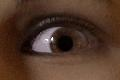eye: (50, 29, 81, 53)
